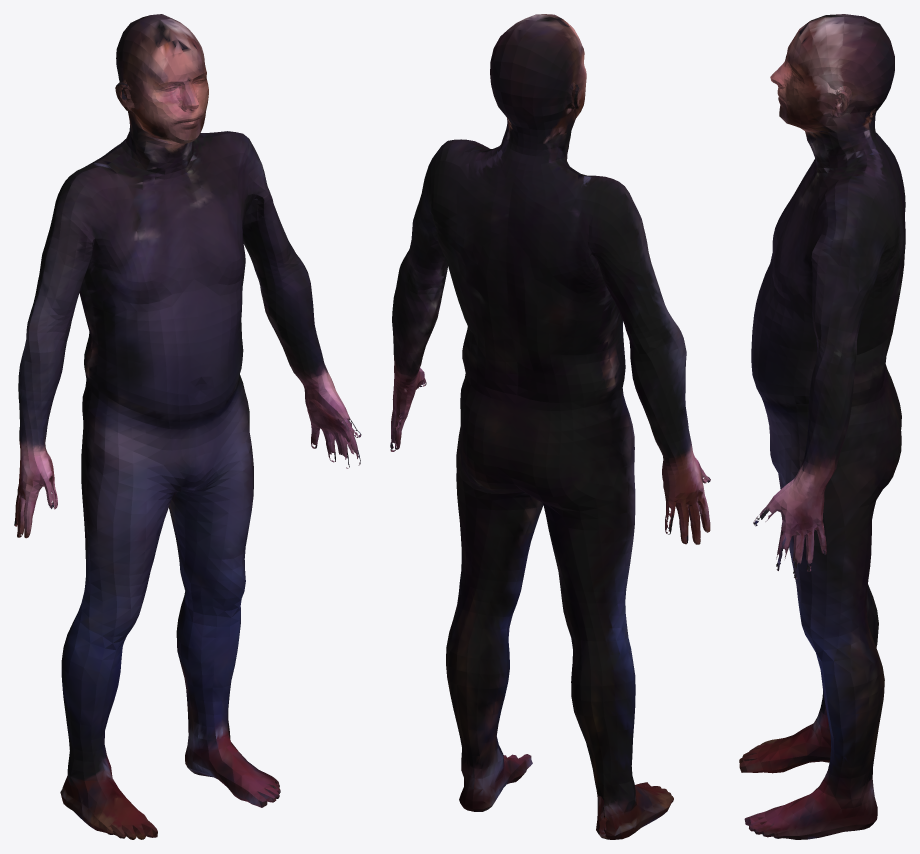
The model's file is Michal_LowPoly_star_texturized.obj.
3 views of the same model, side by side, from view 1: azimuth 30°, elevation 25°; view 2: azimuth 150°, elevation 25°; view 3: azimuth 270°, elevation 25° (orthographic). The views are drawn at different scales.
Visible parts, largest first — view 1: michal_Low_poly_star; view 2: michal_Low_poly_star; view 3: michal_Low_poly_star.
Part boxes in pixels (x1,y1,x2,y2): michal_Low_poly_star: (14, 14, 361, 839); michal_Low_poly_star: (390, 14, 710, 839); michal_Low_poly_star: (739, 14, 905, 839).
Bounding box in the file's own units: 0.7657 × 1.76 × 0.3387.
1 material, 1 textured.
